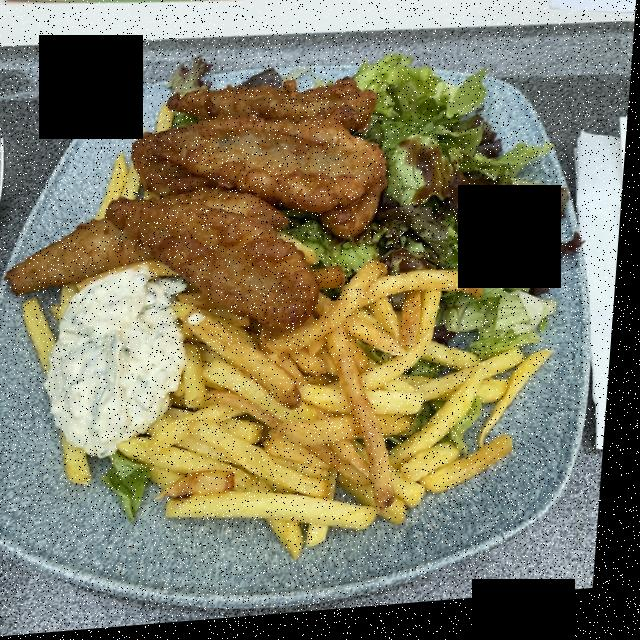balsamic-salad-dressing: (401, 146, 511, 221)
chips-french-fries: (134, 272, 539, 553)
fish-crunchies-battered: (1, 81, 388, 321)
salad-leaf-salad-green: (346, 69, 569, 354)
tartar-sauce: (54, 272, 189, 456)
